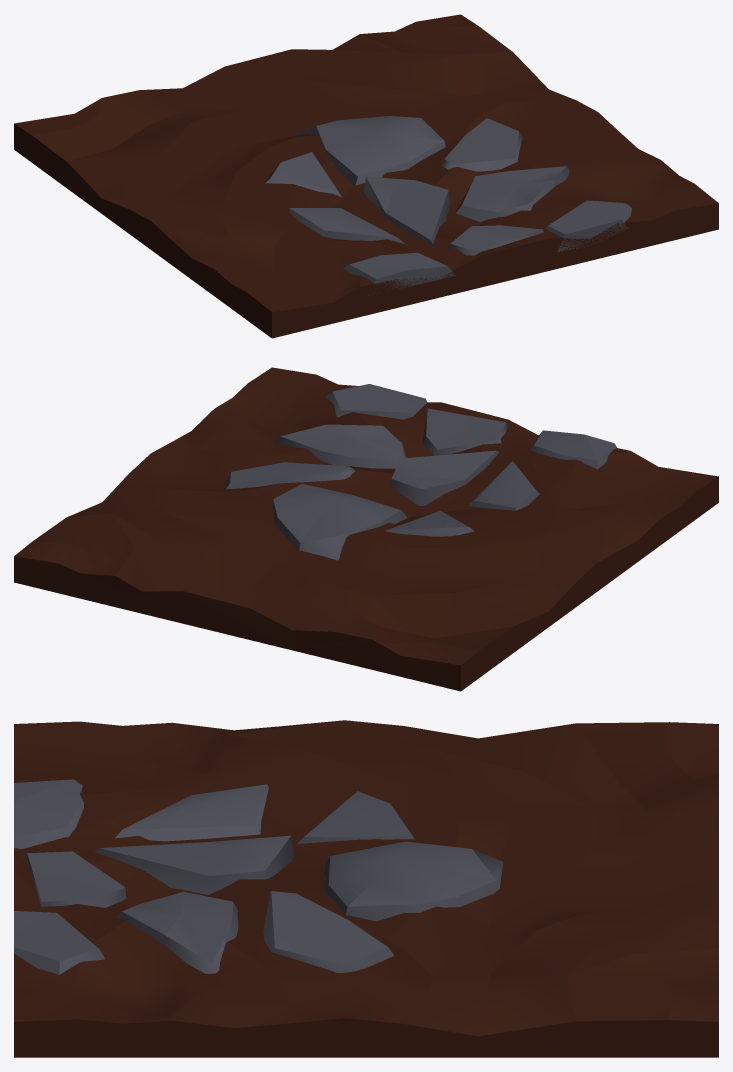
Rendered from Ground_Stone_Path_Ending_U.fbx.
3 renders of one model, top to bottom at view 1: azimuth 30°, elevation 25°; view 2: azimuth 150°, elevation 25°; view 3: azimuth 270°, elevation 25°, orthographic. The views are drawn at different scales.
Parts seen in each view (by area): view 1: Ground_Stone_Path_Ending_U; view 2: Ground_Stone_Path_Ending_U; view 3: Ground_Stone_Path_Ending_U.
Part boxes in pixels (<box>): Ground_Stone_Path_Ending_U: <box>14,14,718,338</box>; Ground_Stone_Path_Ending_U: <box>14,367,718,691</box>; Ground_Stone_Path_Ending_U: <box>14,720,718,1057</box>.
Size of the model in its own units: 147 by 15.12 by 147.
